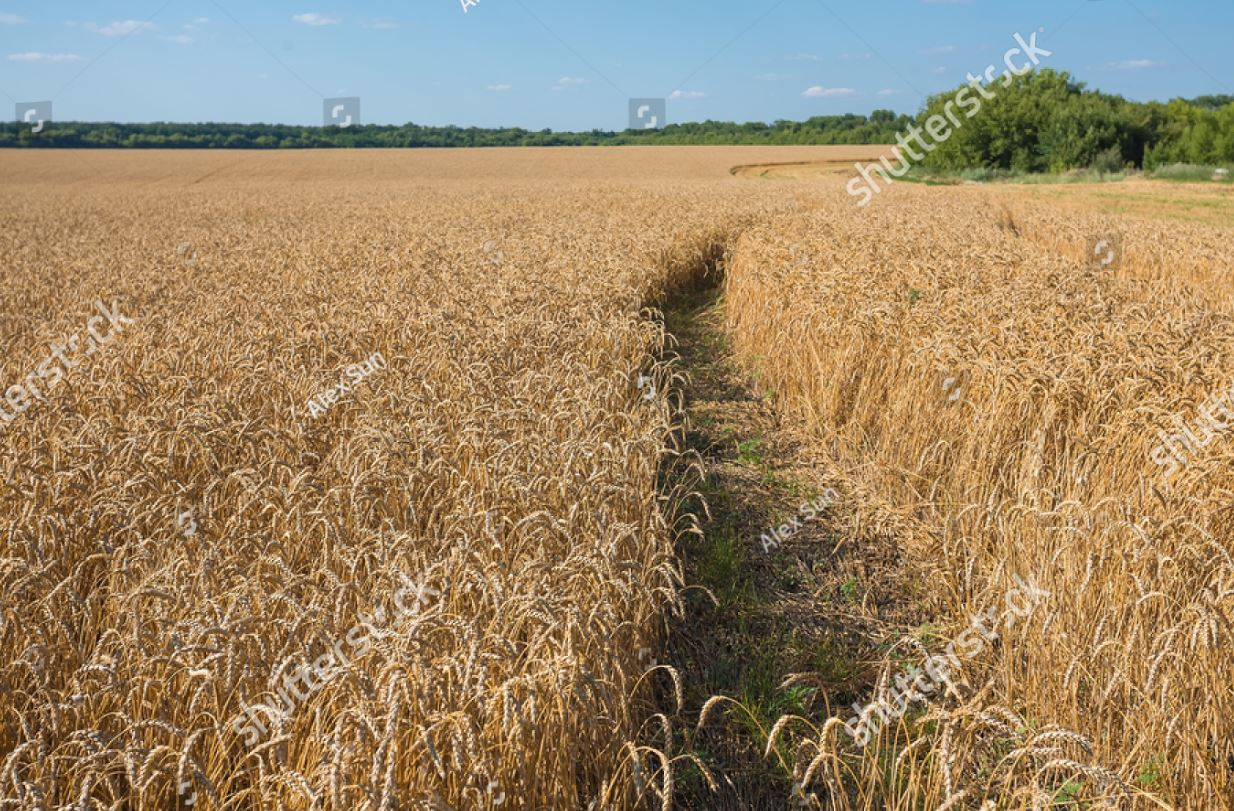Wheat: (91, 478, 585, 773)
